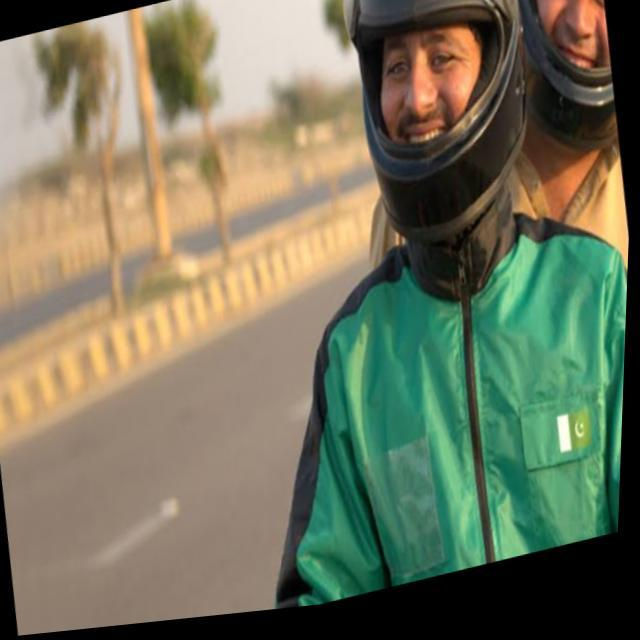Helmet: (332, 0, 554, 244)
